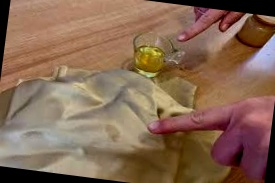oil: (94, 121, 127, 147)
